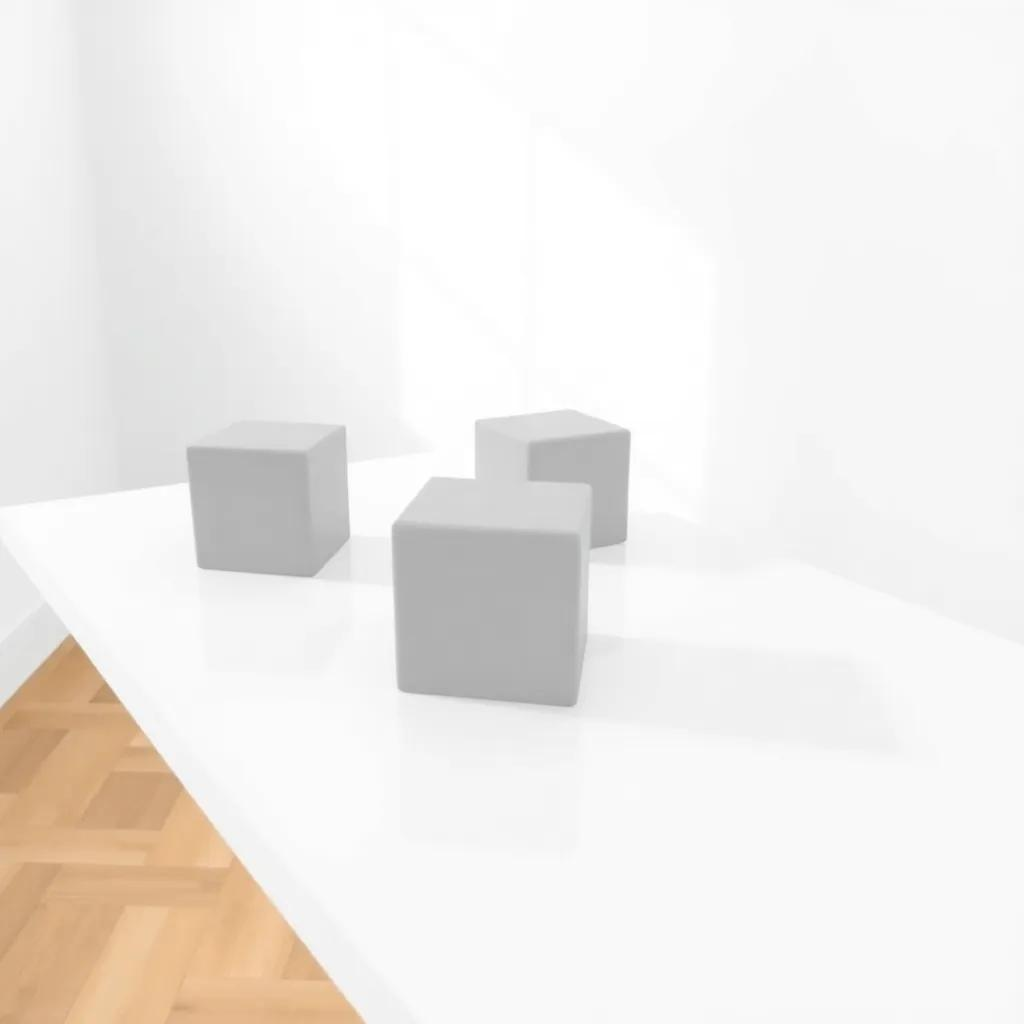cube: (390, 474, 593, 707), (185, 419, 350, 577), (473, 407, 630, 549)
